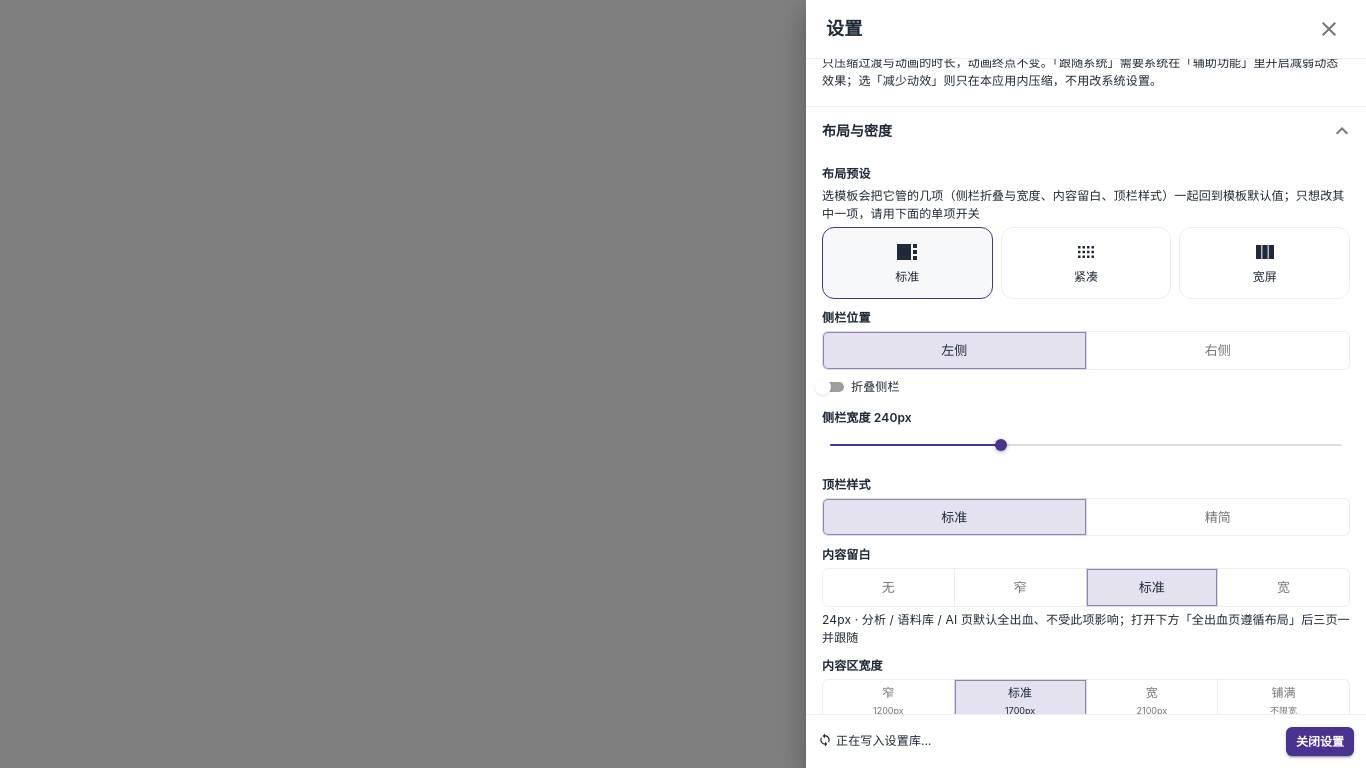
设置抽屉 · 侧栏折叠开关 › 抽屉里就能折叠/展开侧栏，折叠时宽度滑杆禁用并有说明
(page scrolled)
Click the switch labelled "折叠侧栏" at (857, 387), box [815,379,900,395]
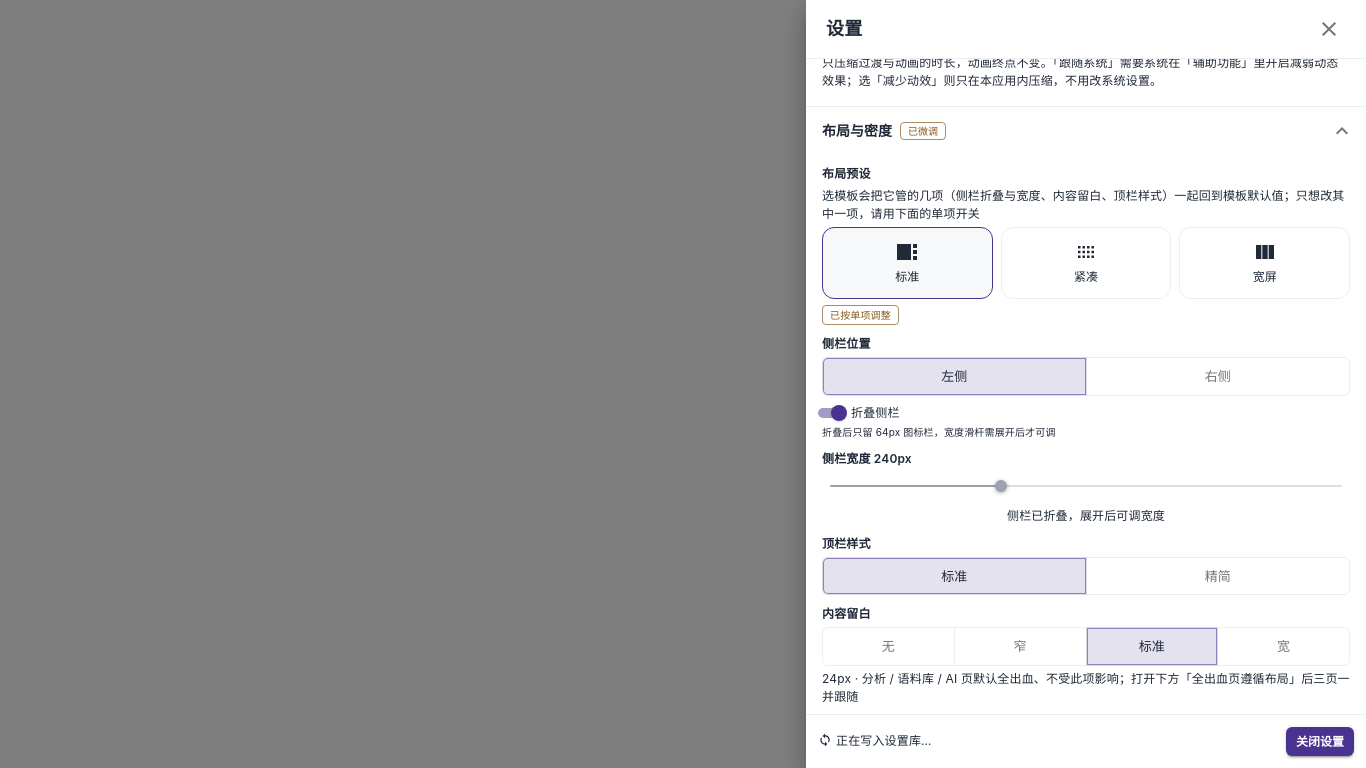
Expected: the text "侧栏已折叠，展开后可调宽度" is shown, [1007,508,1165,523]
Note: 再点一次展开：滑杆恢复可用（这一章在抽屉内自洽，不必去抽屉外找按钮）
Click the switch labelled "折叠侧栏" at (859, 413), box [818,405,900,421]
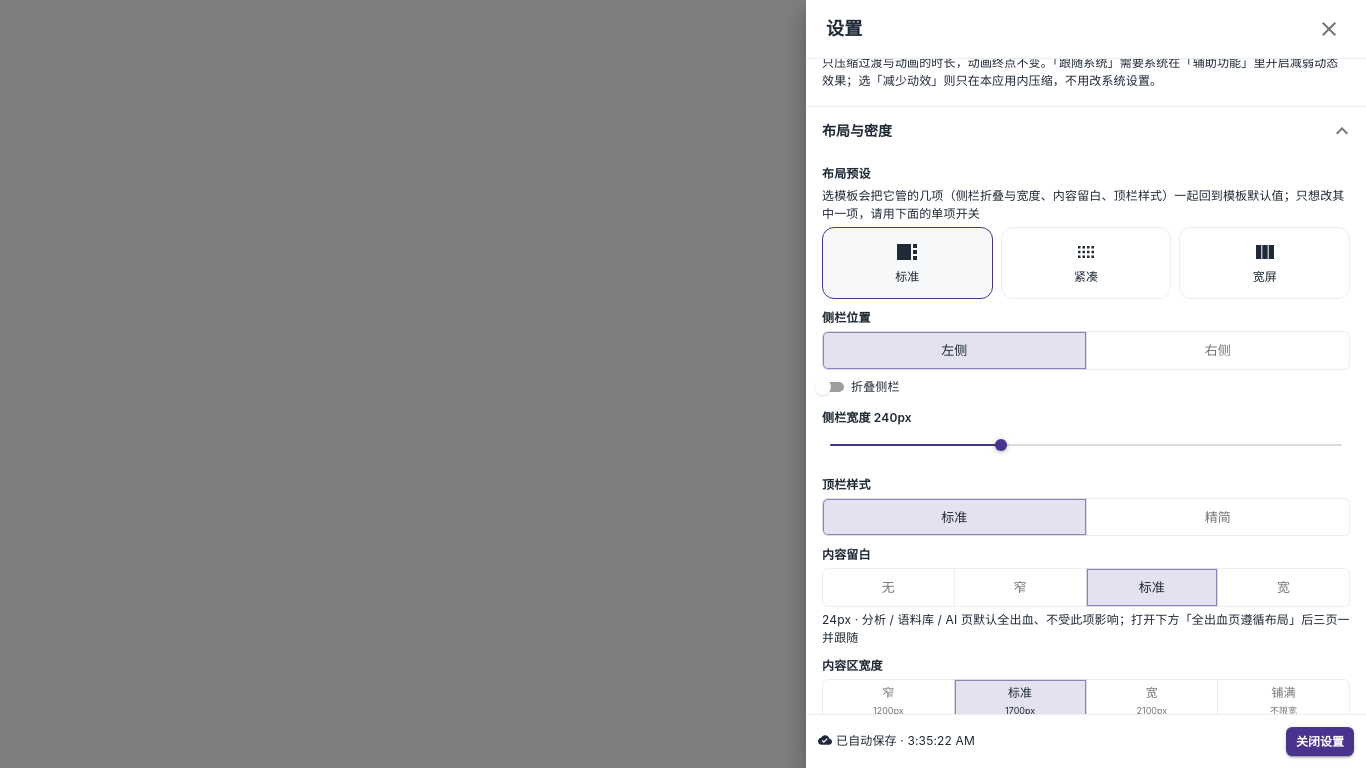
Expected: the text "侧栏已折叠，展开后可调宽度" is gone
